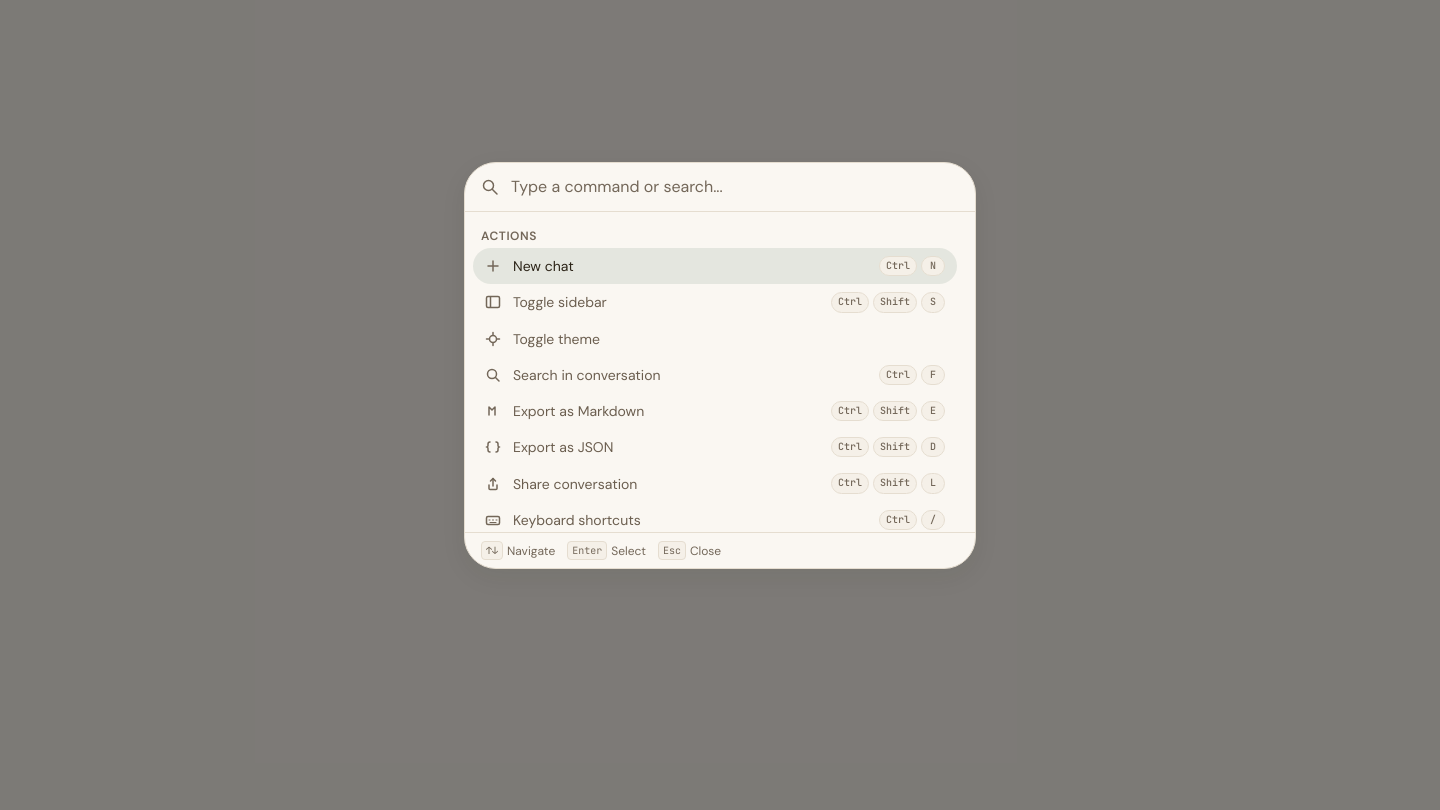
Test: CommandPalette › shows 'No results found' when filter matches nothing
The image size is (1440, 810).
Type "xyznonexistent" into the dropdown named "Search commands".
click(735, 187); type("xyznonexistent")  # box [511, 175, 959, 199]
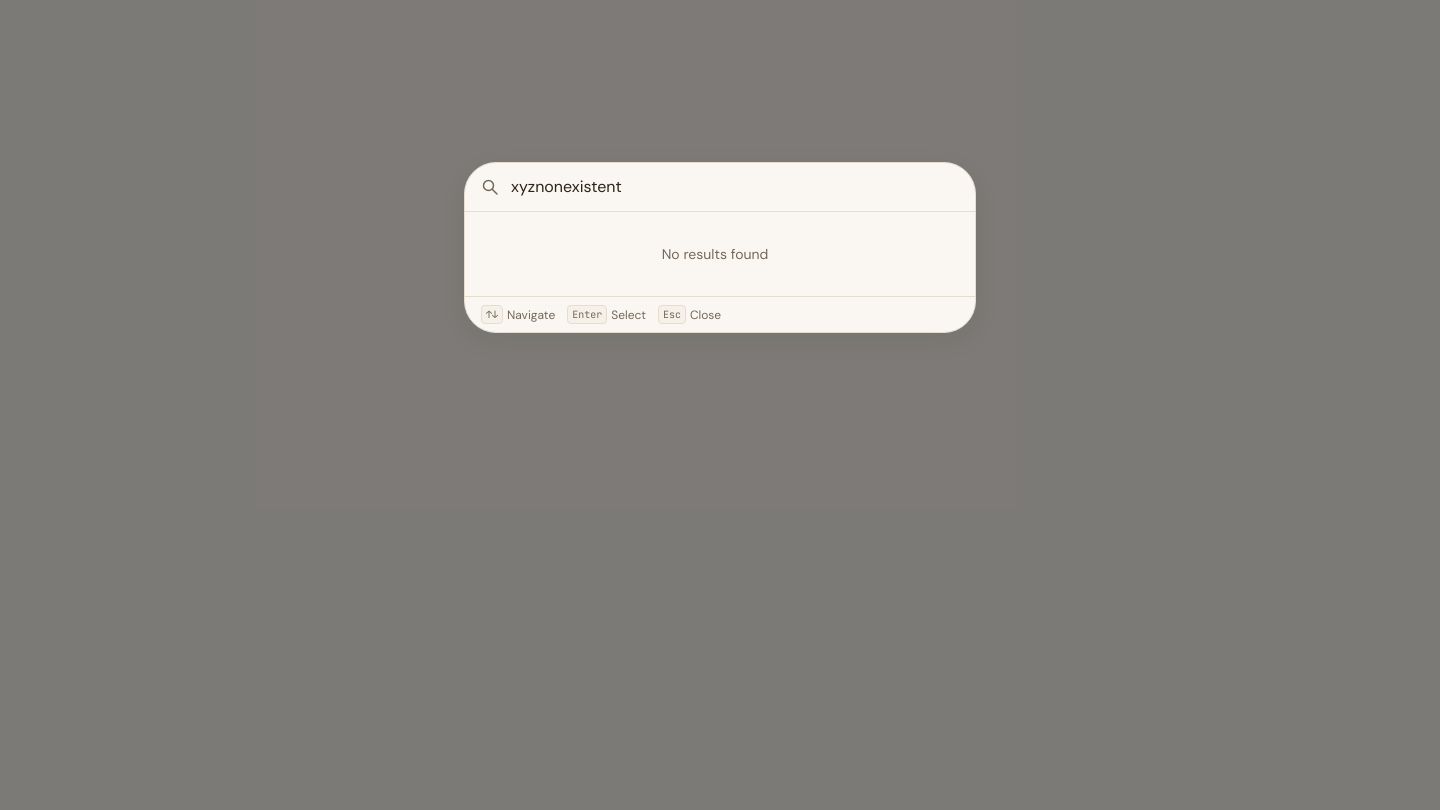
expect the text "No results found" is shown: met, box [662, 245, 768, 263]
